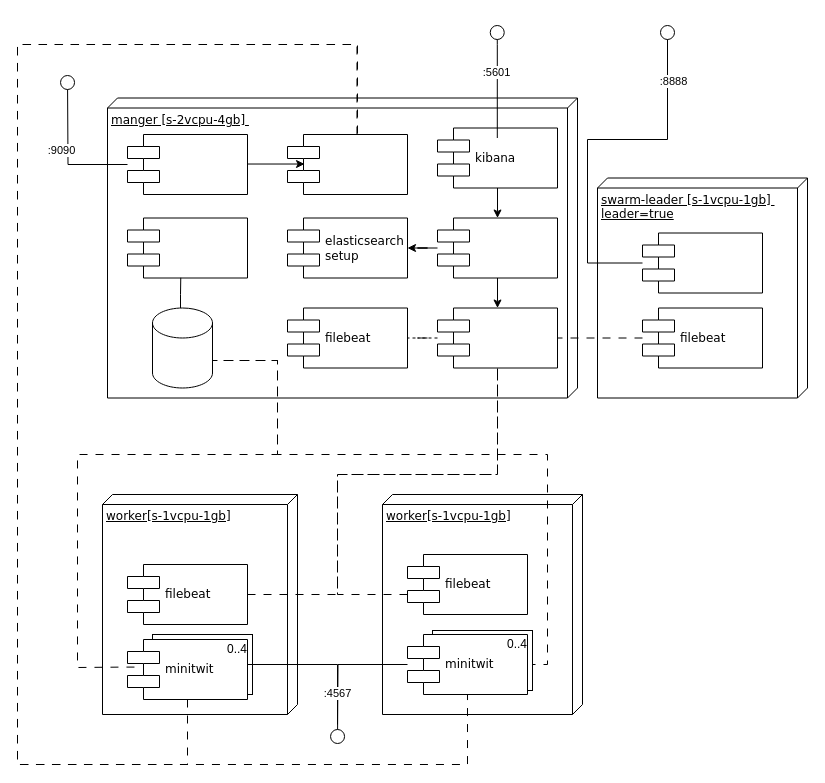
The diagram is 825 pixels wide and 783 high, and some of its shapes have lost their labels. Here are the shapes that lost their labels. From the top down, the centre of each, then its label:
At (x=187, y=164): "Grafana".
At (x=347, y=164): "Prometheus".
At (x=187, y=247): "backup service".
At (x=497, y=247): "elasticsearch".
At (x=702, y=262): "docker samples visualizer".
At (x=182, y=347): "DB".
At (x=497, y=337): "logstash".
